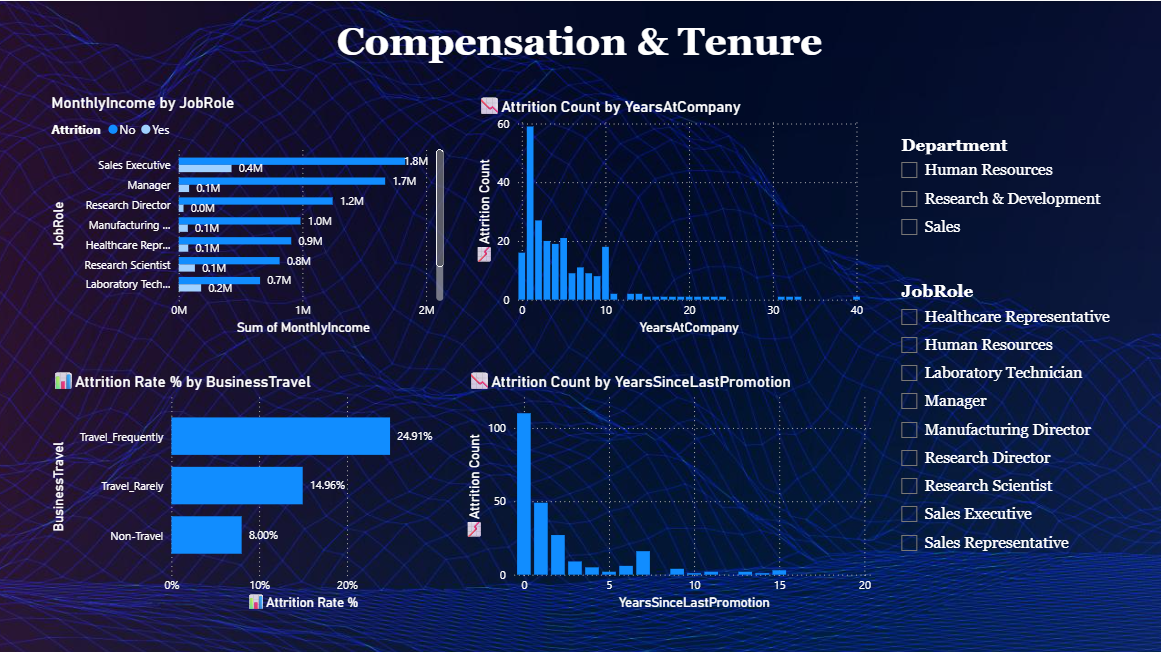

This screenshot's page, from the dashboard's own definition file:
{"tool":"powerbi","page":{"name":"Compensation & Tenure","canvas":[1280,720],"ordinal":3},"visuals":[{"type":"clusteredBarChart","title":"MonthlyIncome by JobRole","fields":{"Category":["HR Data.JobRole"],"Y":["Sum(HR Data.MonthlyIncome)"],"Series":["HR Data.Attrition"]},"box":[54.9,101.5,440.5,270.3],"z":0},{"type":"columnChart","fields":{"Category":["HR Data.YearsAtCompany"],"Y":["Table.Attrition Count"]},"box":[522.8,101.5,433.6,270.3],"z":1000},{"type":"clusteredBarChart","fields":{"Category":["HR Data.BusinessTravel"],"Y":["Table.Attrition Rate %"]},"box":[54.9,403.4,440.5,270.3],"z":2000},{"type":"columnChart","fields":{"Category":["HR Data.YearsSinceLastPromotion"],"Y":["Table.Attrition Count"]},"box":[511.8,403.4,455.6,270.3],"z":3000},{"type":"textbox","box":[297.8,15.1,683.4,60.4],"z":4000},{"type":"slicer","fields":{"Values":["HR Data.Department"]},"box":[979.8,142.7,300.5,135.8],"z":5000},{"type":"slicer","fields":{"Values":["HR Data.JobRole"]},"box":[979.8,303.3,300.5,340.3],"z":6000}]}

Visuals, with their boxes in screenshot pixels (x1, y1, x2, y2), scaled from the page's 1280x720 canvas onto the 1161x652 screenshot:
"MonthlyIncome by JobRole" clusteredBarChart: x1=50, y1=92, x2=449, y2=337
columnChart - HR Data.YearsAtCompany x Table.Attrition Count: x1=474, y1=92, x2=867, y2=337
clusteredBarChart - HR Data.BusinessTravel x Table.Attrition Rate %: x1=50, y1=365, x2=449, y2=610
columnChart - HR Data.YearsSinceLastPromotion x Table.Attrition Count: x1=464, y1=365, x2=877, y2=610
textbox: x1=270, y1=14, x2=890, y2=68
slicer - HR Data.Department: x1=889, y1=129, x2=1160, y2=252
slicer - HR Data.JobRole: x1=889, y1=275, x2=1160, y2=583
